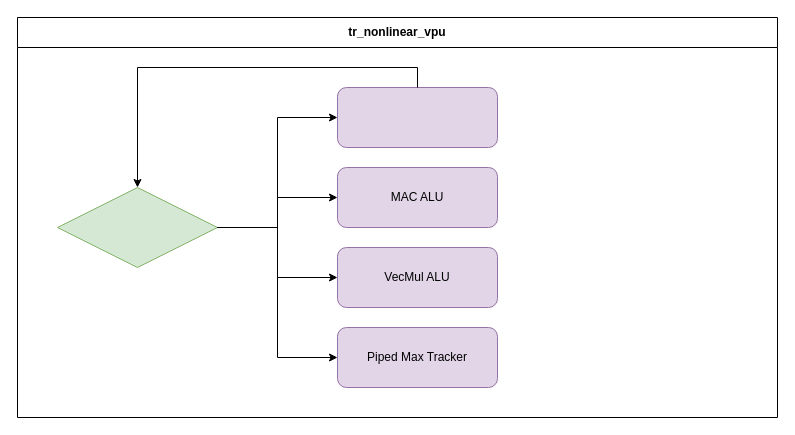
Image size: 795x435. Some labels were removed from this diagram. The shapes that lost their labels are listed below. From the top down, each one's centre as x and y in pixels, then its label:
[417,117]: Backbone ALU
[137,227]: Input Crossbar
